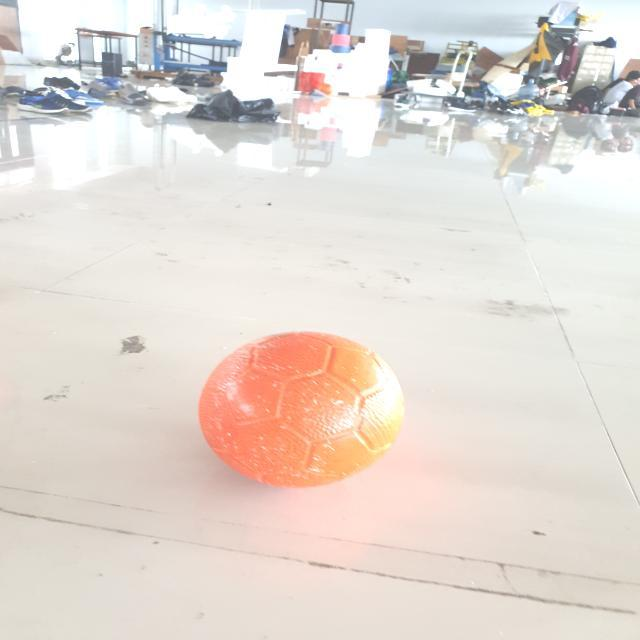bola: (193, 324, 411, 492)
